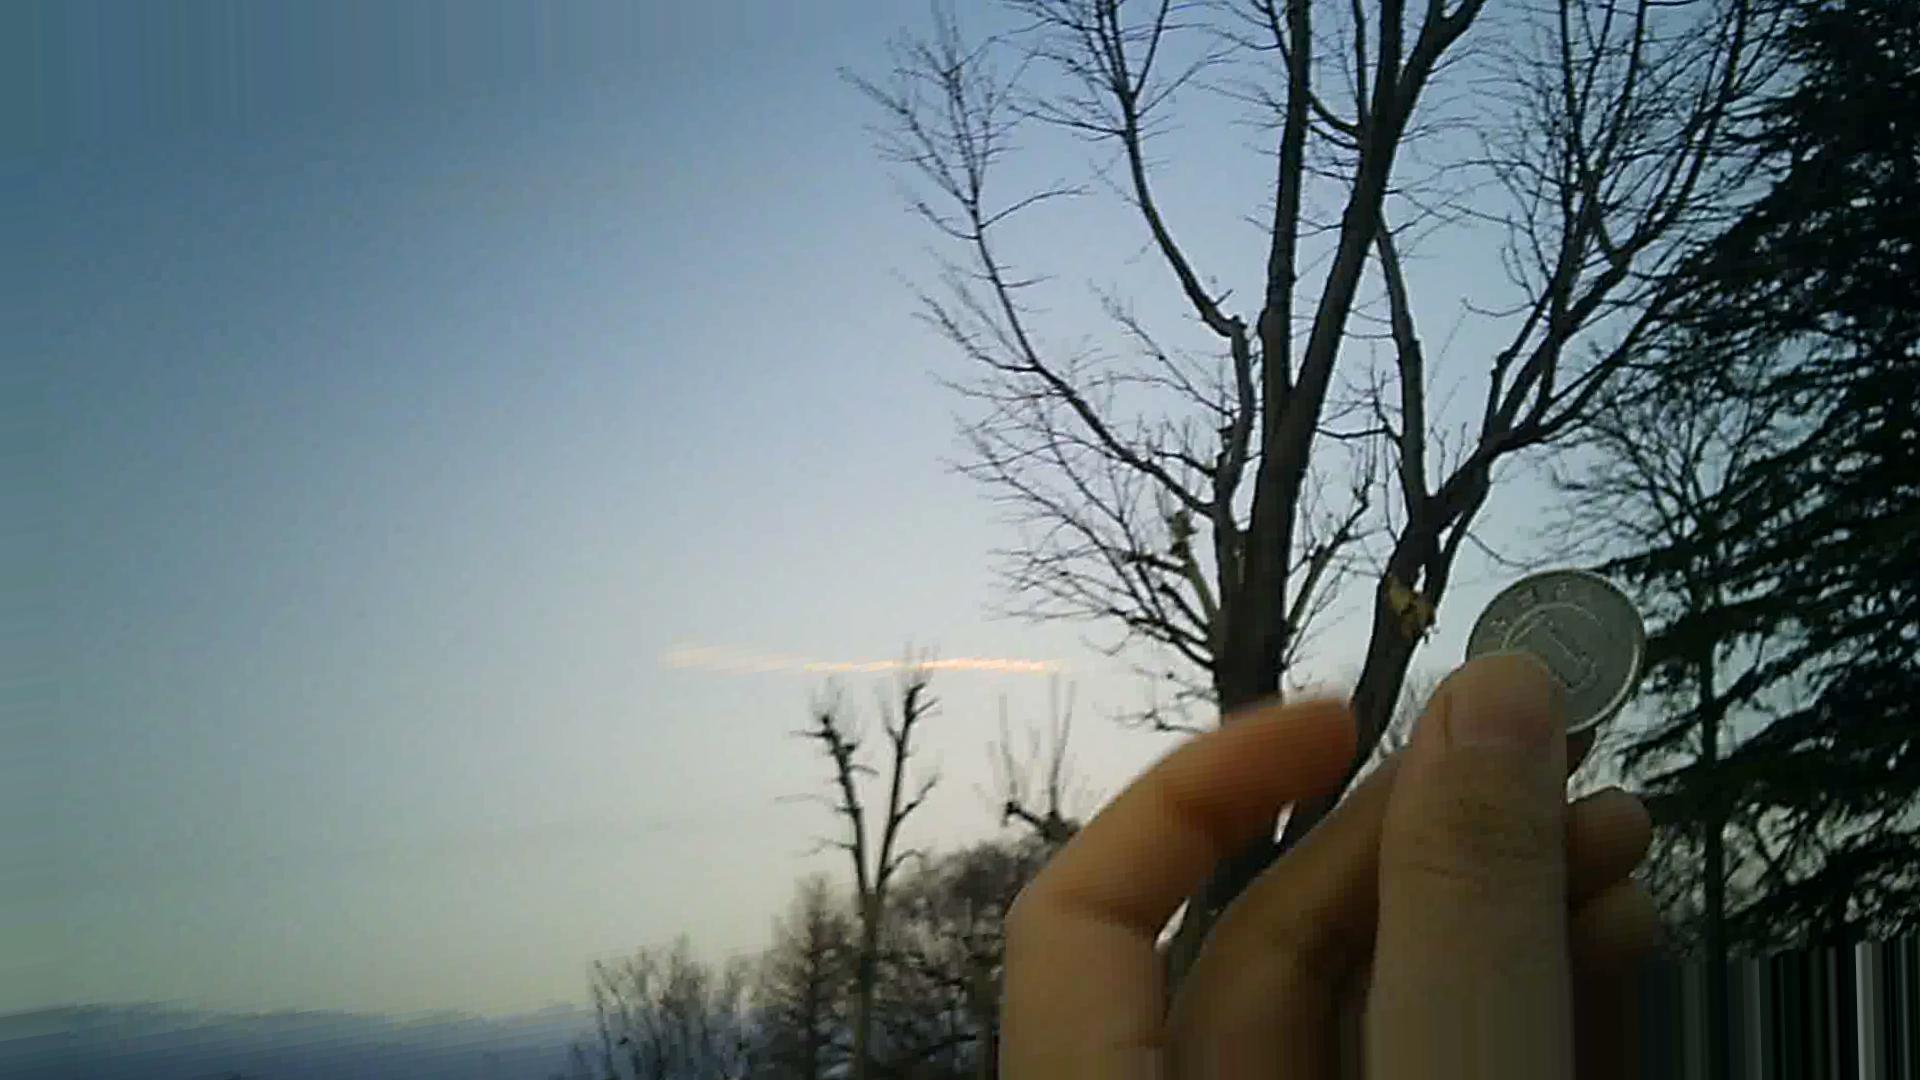1 Yen: (1462, 568, 1664, 741)
